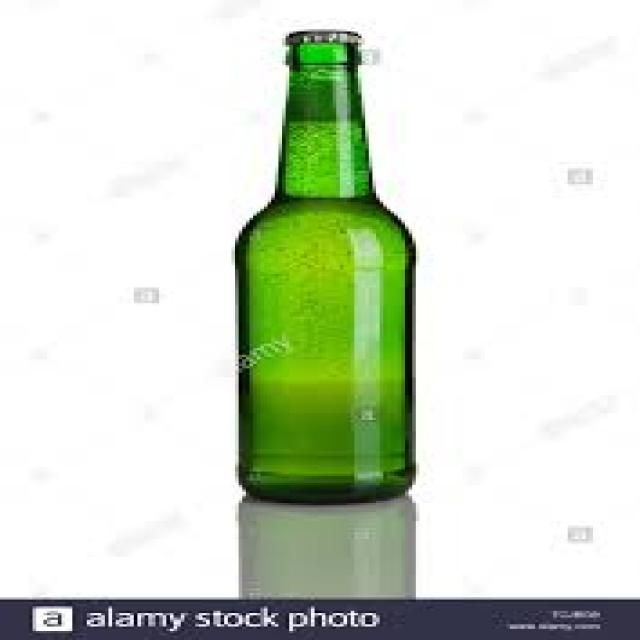glass: (232, 40, 409, 503)
metal: (282, 27, 358, 43)
